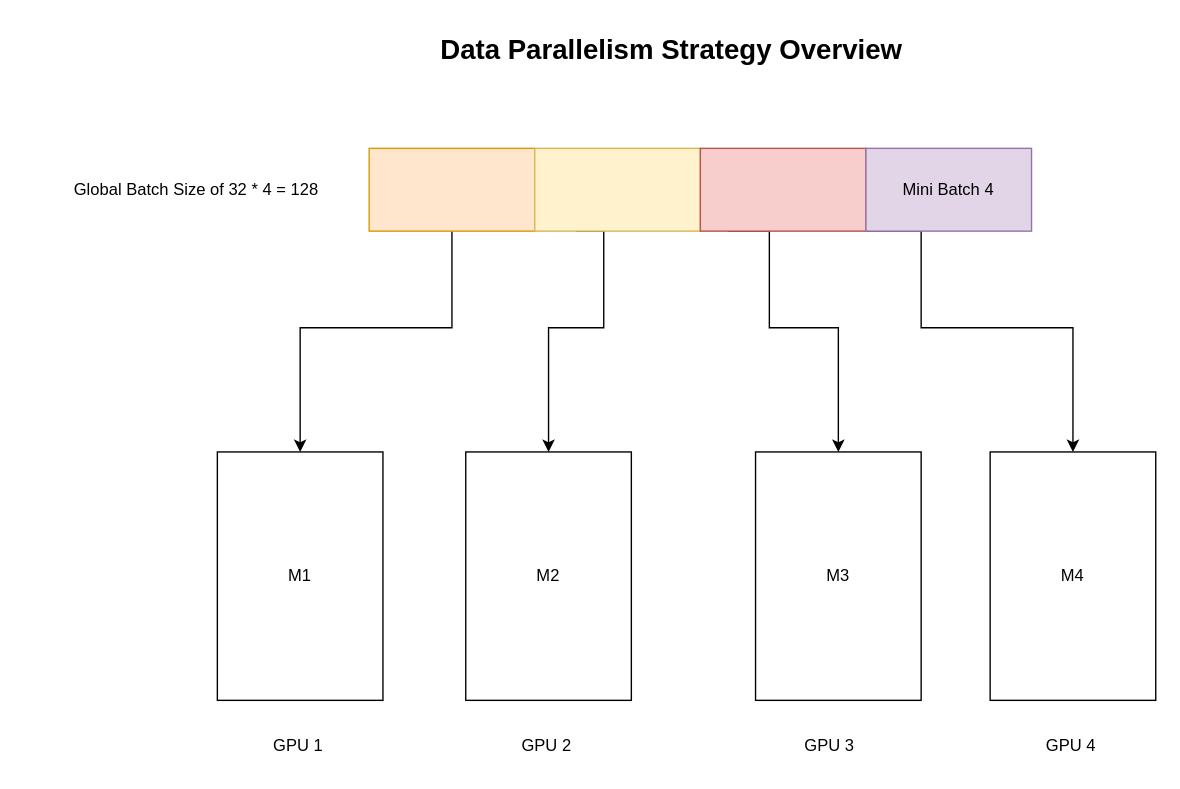
This 1180x789 diagram has some shape labels left out. Here are the shapes that lost their labels. From the top down, the centre of each, then its label:
At point 451,189: "Mini Batch 1".
At point 616,189: "Mini Batch 2".
At point 782,189: "Mini Batch 3".
